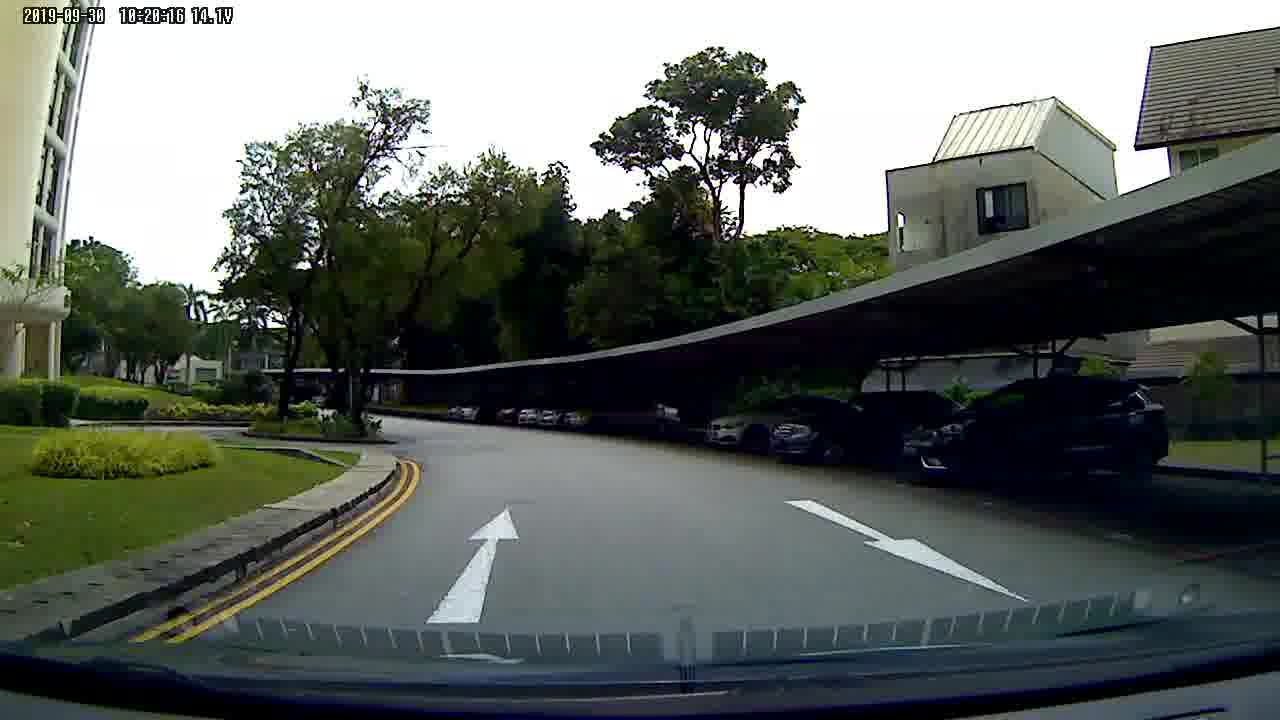car: (895, 372, 1185, 499), (764, 378, 892, 475)
